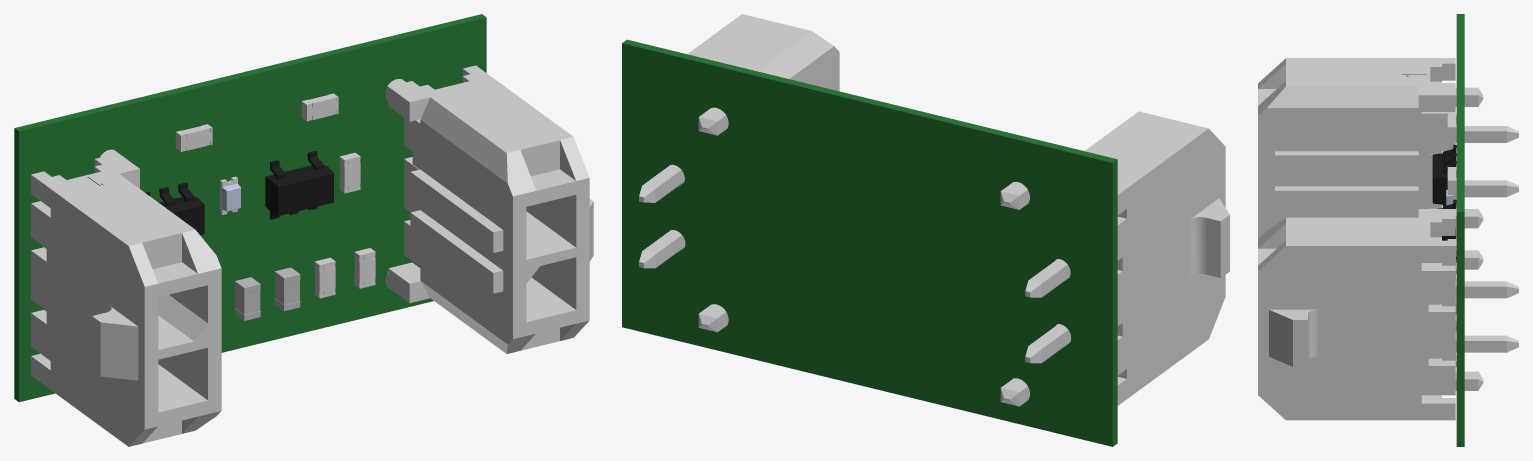
File: PCB_Battery_Tester.glb
3 views of the same model, side by side, from view 1: azimuth 30°, elevation 25°; view 2: azimuth 150°, elevation 25°; view 3: azimuth 270°, elevation 25° (orthographic). The views are drawn at different scales.
Parts seen in each view (by area): view 1: Open CASCADE STEP translator 7.5 3.1.1, nodes[27], nodes[30], sot-23-5-microchip, nodes[31], sot-23-5-microchip_node, 0603 cap, 0603 cap_node, nodes[16], nodes[25], nodes[13], nodes[10] (+1 smaller); view 2: Open CASCADE STEP translator 7.5 3.1.1, nodes[30], nodes[27], nodes[31]; view 3: nodes[27], nodes[30], Open CASCADE STEP translator 7.5 3.1.1, nodes[28], sot-23-5-microchip_node.
Part boxes in pixels (<box>): Open CASCADE STEP translator 7.5 3.1.1: <box>14,14,486,402</box>; nodes[27]: <box>385,65,589,353</box>; nodes[30]: <box>31,149,221,446</box>; sot-23-5-microchip: <box>265,151,333,219</box>; nodes[31]: <box>92,306,138,380</box>; sot-23-5-microchip_node: <box>145,182,204,234</box>; 0603 cap: <box>235,277,260,320</box>; 0603 cap_node: <box>274,267,300,311</box>; nodes[16]: <box>175,124,212,152</box>; nodes[25]: <box>301,93,338,121</box>; nodes[13]: <box>339,152,360,193</box>; nodes[10]: <box>354,248,375,288</box>; Open CASCADE STEP translator 7.5 3.1.1: <box>622,39,1117,446</box>; nodes[30]: <box>1000,111,1225,406</box>; nodes[27]: <box>639,14,839,332</box>; nodes[31]: <box>1189,198,1229,277</box>; nodes[27]: <box>1258,209,1518,420</box>; nodes[30]: <box>1258,58,1518,269</box>; Open CASCADE STEP translator 7.5 3.1.1: <box>1456,14,1464,446</box>; nodes[28]: <box>1269,309,1317,366</box>; sot-23-5-microchip_node: <box>1432,144,1456,205</box>.
Bounding box in the file's own units: 24.77 × 13 × 13.08.
